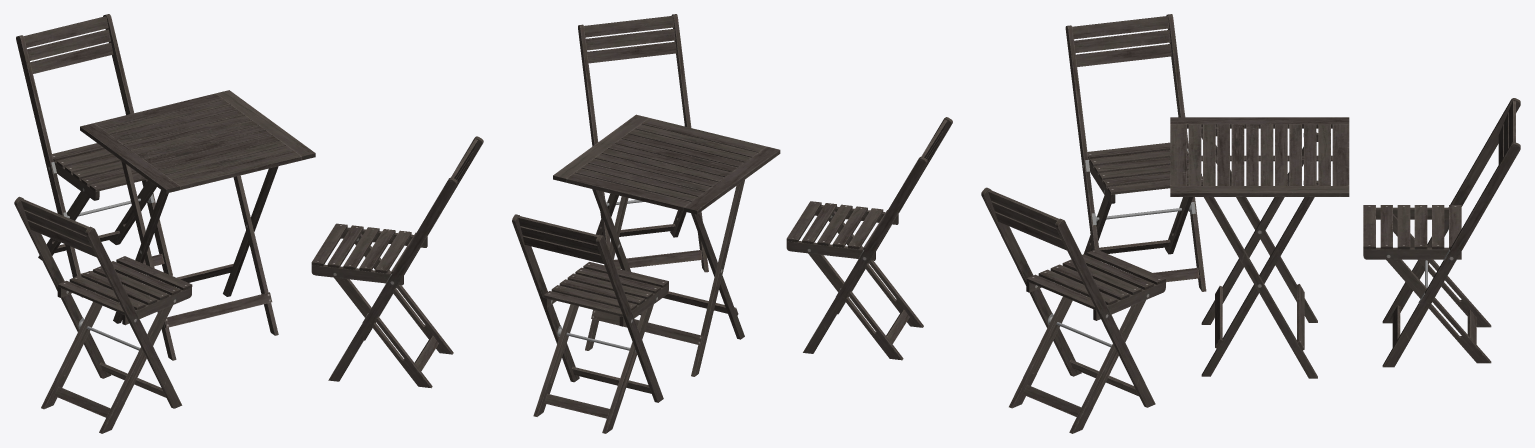
The model's file is furniture_pack_for_summer_caffe_free.glb.
The picture shows the model from 3 angles, left to right: view 1: azimuth 30°, elevation 25°; view 2: azimuth 150°, elevation 25°; view 3: azimuth 270°, elevation 25°; orthographic projection. The views are drawn at different scales.
Parts seen in each view (by area): view 1: chair1__0; view 2: chair1__0; view 3: chair1__0.
Part boxes in pixels (<box>): chair1__0: <box>14,14,483,433</box>; chair1__0: <box>512,14,952,433</box>; chair1__0: <box>981,14,1520,433</box>.
Size of the model in its own units: 1.67 by 0.8259 by 1.81.
1 material, 1 textured.
